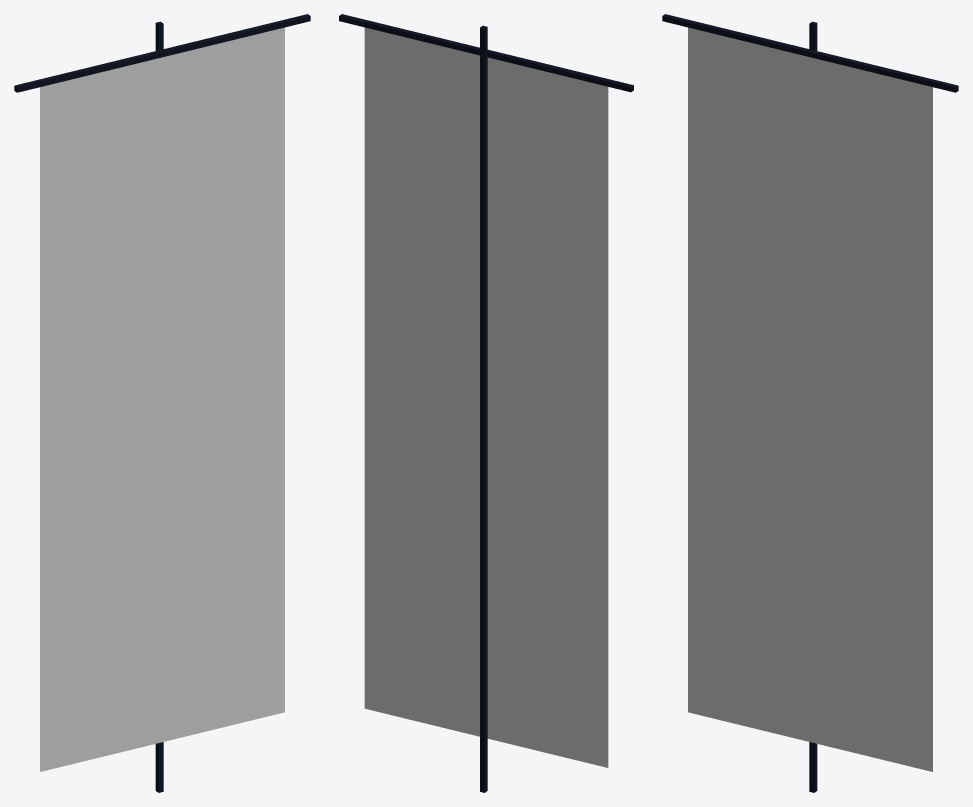
File: Flag.fbx
3 views of the same model, side by side, from view 1: azimuth 30°, elevation 25°; view 2: azimuth 150°, elevation 25°; view 3: azimuth 330°, elevation 25° (orthographic).
Parts seen in each view (by area): view 1: Flag, FlagPole; view 2: Flag, FlagPole; view 3: Flag, FlagPole.
Part boxes in pixels (x1,y1,x2,y2): Flag: (40,27,284,771); FlagPole: (14,14,310,792); Flag: (364,27,608,767); FlagPole: (339,14,633,792); Flag: (688,27,932,771); FlagPole: (662,14,958,792).
Bounding box in the file's own units: 120 × 300 × 4.
